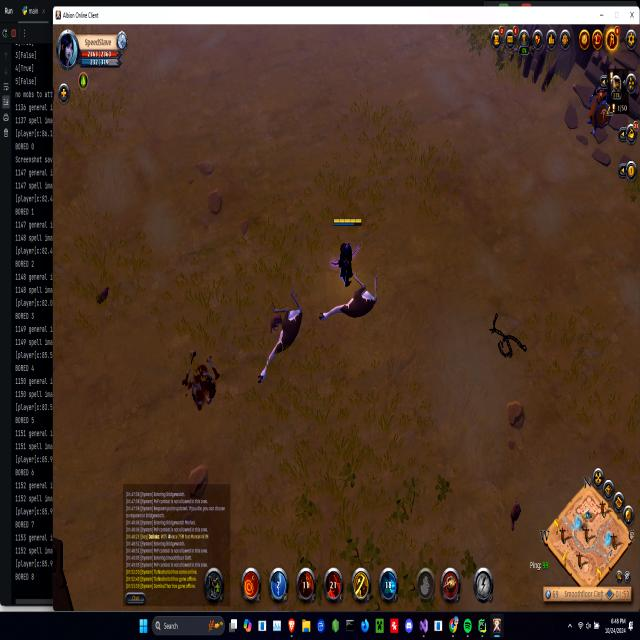mob: (256, 285, 306, 389), (315, 266, 382, 323)
red: (328, 213, 364, 290)
